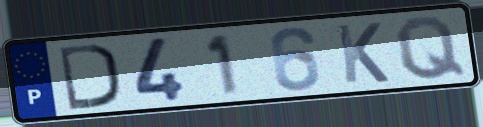1: (201, 31, 241, 98)
4: (131, 35, 192, 104)
6: (268, 25, 322, 93)
D: (55, 41, 122, 112)
K: (333, 20, 392, 86)
Q: (392, 14, 469, 82)
